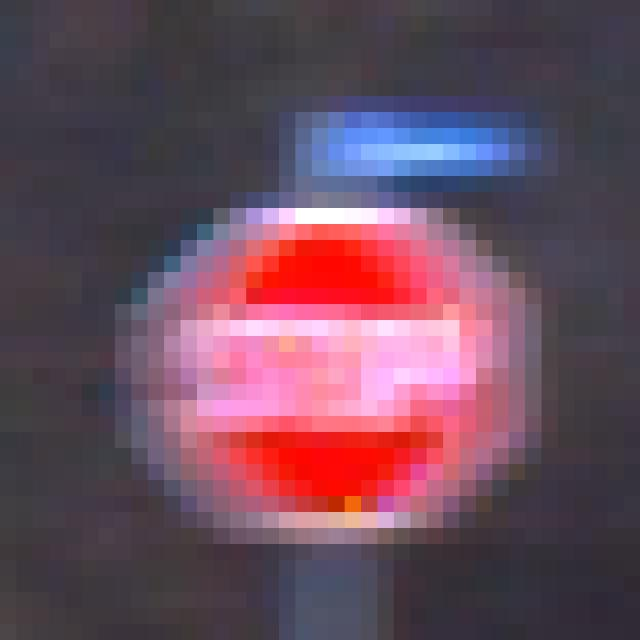STOP: (99, 97, 559, 561)
